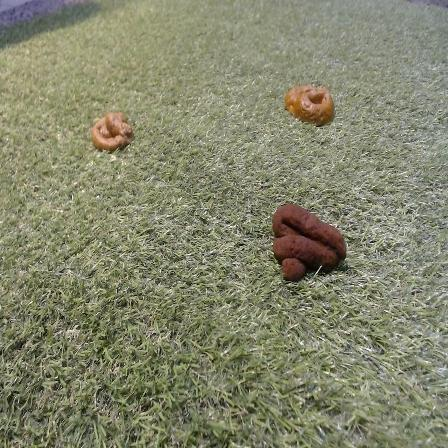dog-poop: (265, 196, 354, 283), (282, 79, 342, 130), (88, 106, 135, 154)
